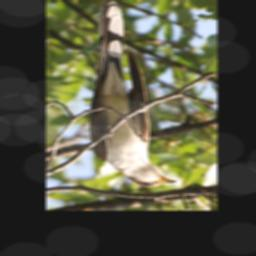Cuckoo: (87, 0, 178, 188)
